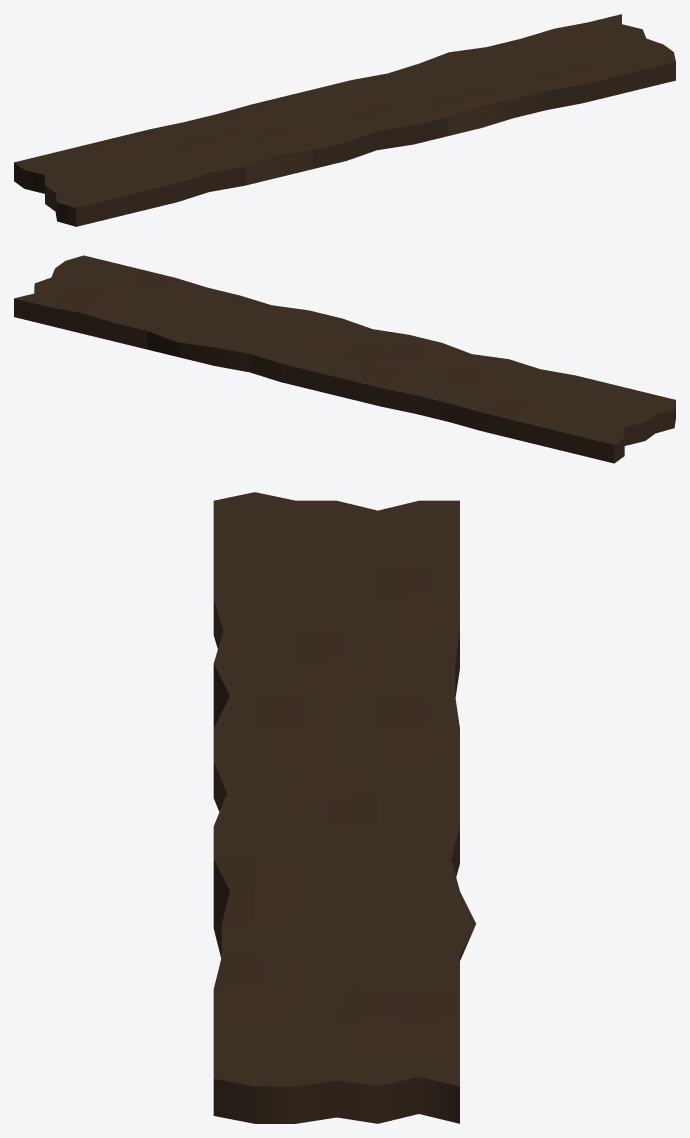
Rendered from Plank.fbx.
The picture shows the model from 3 angles, top to bottom: view 1: azimuth 30°, elevation 25°; view 2: azimuth 150°, elevation 25°; view 3: azimuth 270°, elevation 25°; orthographic projection. The views are drawn at different scales.
Visible parts, largest first — view 1: Cube; view 2: Cube; view 3: Cube.
Part boxes in pixels (left/top/right/bottom): Cube: left=14, top=14, right=675, bottom=226; Cube: left=14, top=255, right=675, bottom=463; Cube: left=213, top=492, right=475, bottom=1123.
Bounding box in the file's own units: 239 × 8.53 × 44.65.
